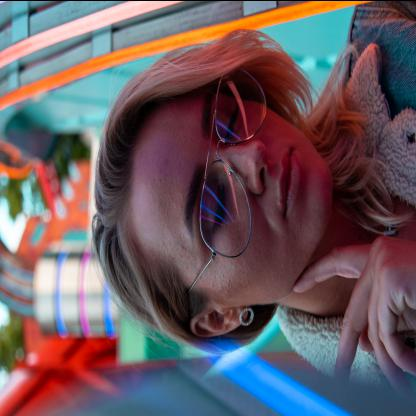Eye: (204, 176, 230, 232), (218, 96, 243, 141)
Mouth: (268, 140, 306, 218)
Nose: (237, 134, 273, 195)
